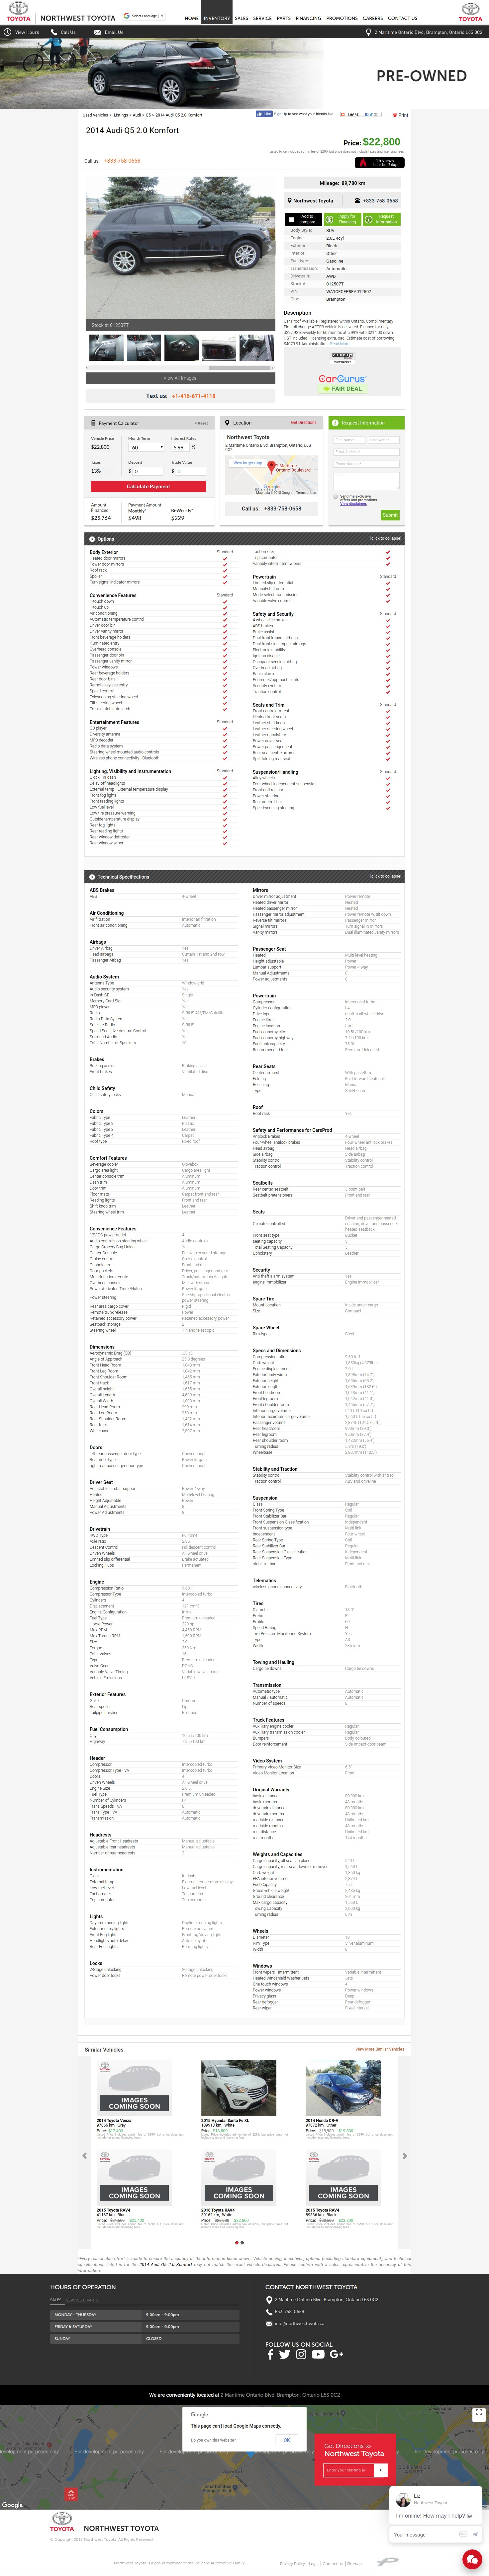car: (267, 243, 273, 251)
